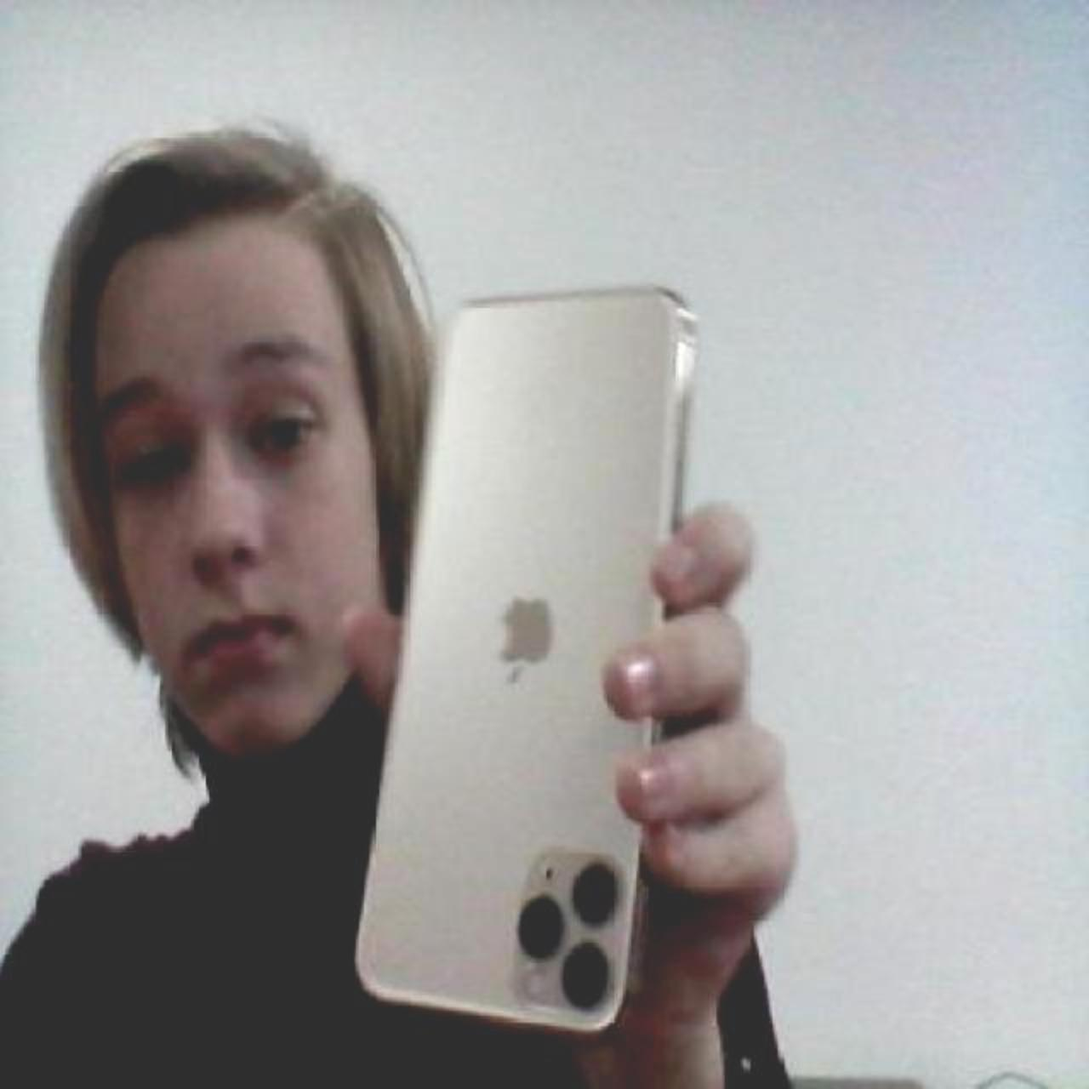phone: (344, 286, 715, 1041)
